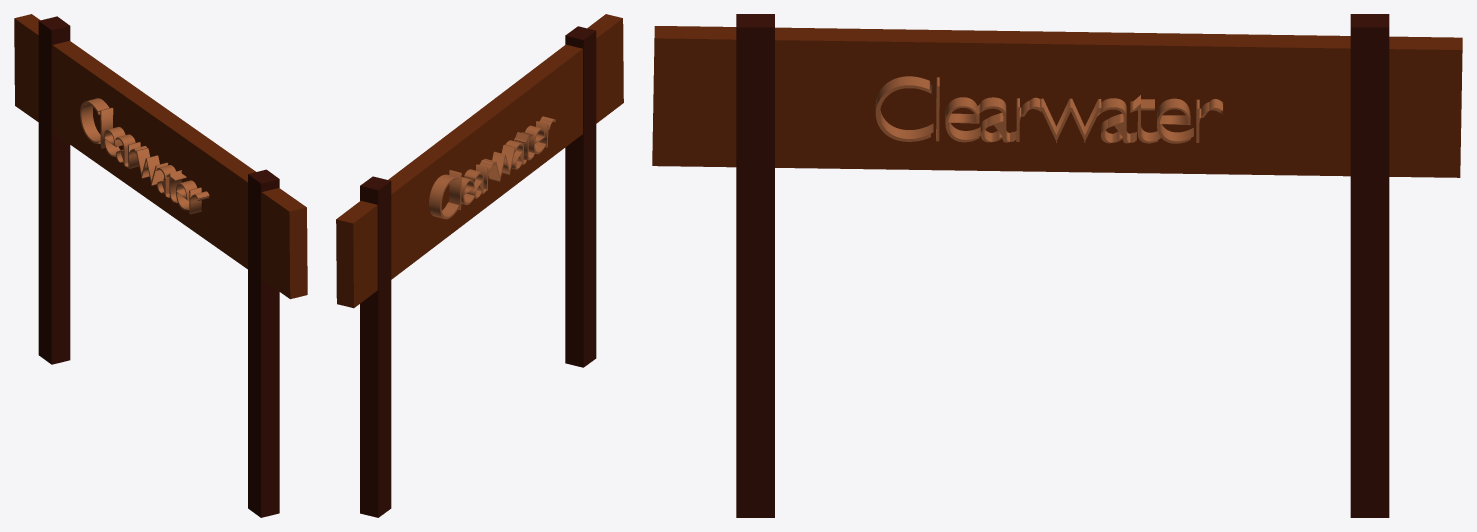
File: Clearwater Camp.fbx
3 views of the same model, side by side, from view 1: azimuth 30°, elevation 25°; view 2: azimuth 150°, elevation 25°; view 3: azimuth 270°, elevation 25° (orthographic). The views are drawn at different scales.
Visible parts, largest first — view 1: Cube.001, Text; view 2: Cube.001, Text; view 3: Cube.001, Text.001.
Part boxes in pixels (box(x1,y1,x2,y2)): Cube.001: box(14, 14, 307, 517); Text: box(80, 98, 209, 214); Cube.001: box(336, 14, 623, 517); Text: box(429, 116, 555, 219); Cube.001: box(652, 14, 1462, 517); Text.001: box(875, 76, 1223, 143).
Size of the model in its own units: 102 by 777 by 1163.
